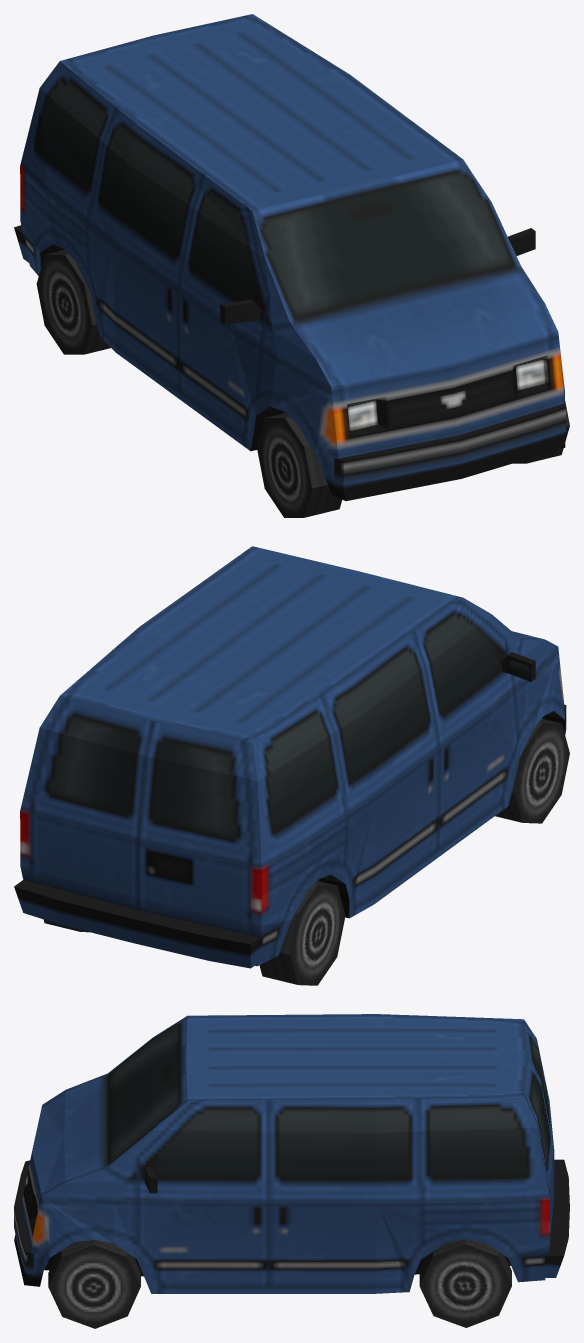
Rendered from Car4.gltf.
The picture shows the model from 3 angles, top to bottom: view 1: azimuth 30°, elevation 25°; view 2: azimuth 150°, elevation 25°; view 3: azimuth 270°, elevation 25°; orthographic projection. The views are drawn at different scales.
Visible parts, largest first — view 1: Car4; view 2: Car4; view 3: Car4.
Boxes of the visible parts, x1,y1,x2,y2 form: Car4: (14,14,569,517); Car4: (14,546,569,985); Car4: (14,1014,569,1328).
Size of the model in its own units: 3.4 by 2.74 by 6.3.
1 material, 1 textured.
